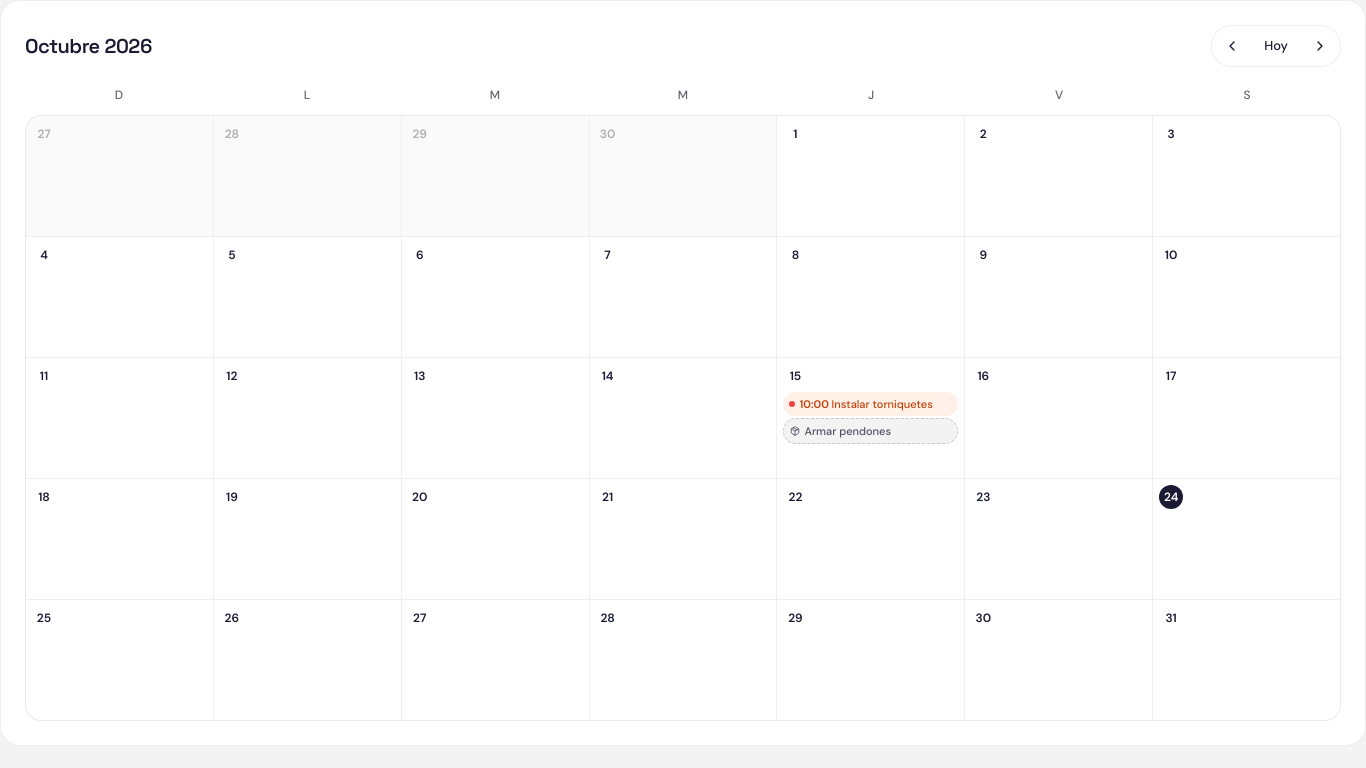
Test: TeamCalendar › mezcla un pedido con entrega ese día, distinguido con el ícono de paquete
The width and height of the screenshot is (1366, 768).
Click the button "15".
click(871, 418)  # box top-left (777, 358), bottom-right (964, 478)
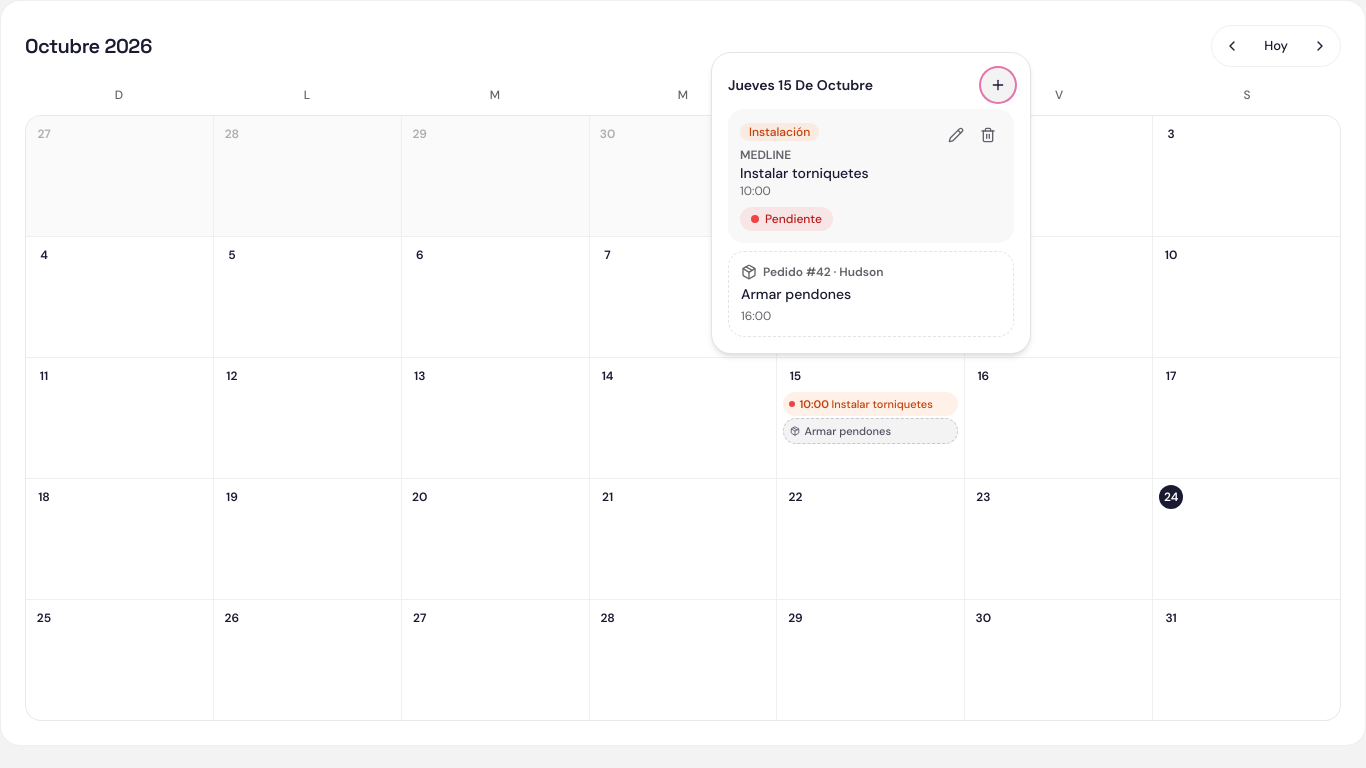
expect the text "Instalar torniquetes" is shown: met, box top-left (740, 163), bottom-right (869, 183)
expect the text "Pedido #42 · Hudson" is shown: met, box top-left (741, 264), bottom-right (884, 280)
expect the text "Armar pendones" below "MEDLINE" is shown: met, box top-left (741, 285), bottom-right (851, 303)
